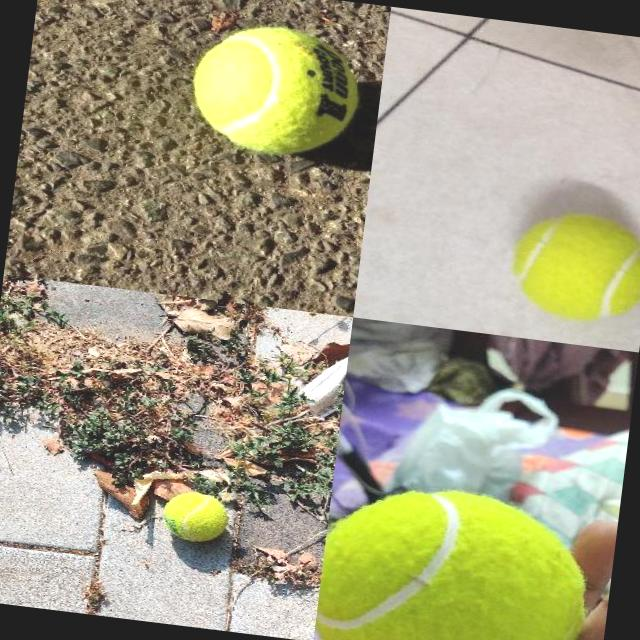Tennis Ball: (312, 473, 599, 640), (184, 17, 368, 165), (506, 204, 640, 328), (160, 488, 230, 544)
